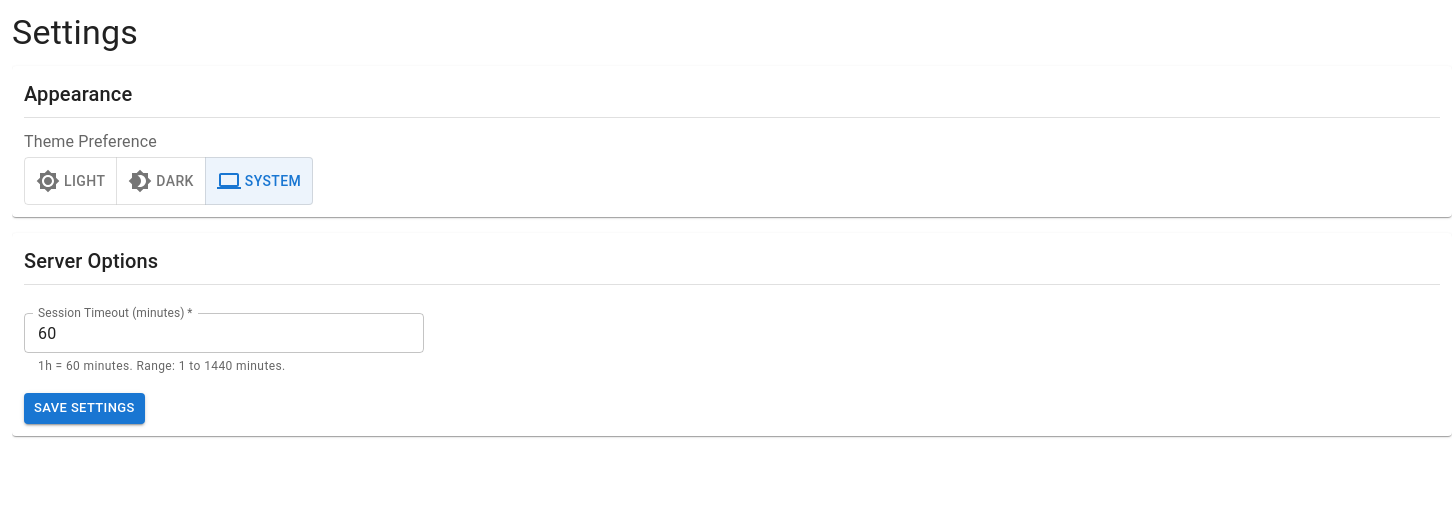
Test: SettingsPage › handles non-Error update failure
Click the button "Save Settings" at (84, 409), box [24, 393, 145, 424]
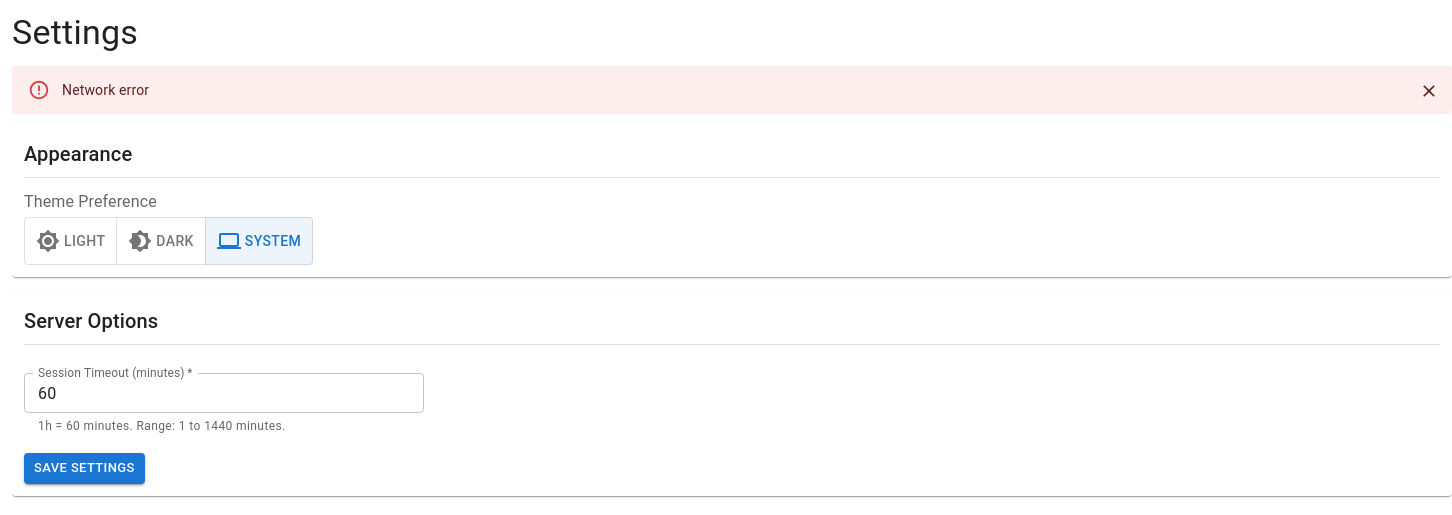
Check: the text "Network error" is shown, box [62, 82, 149, 98]
